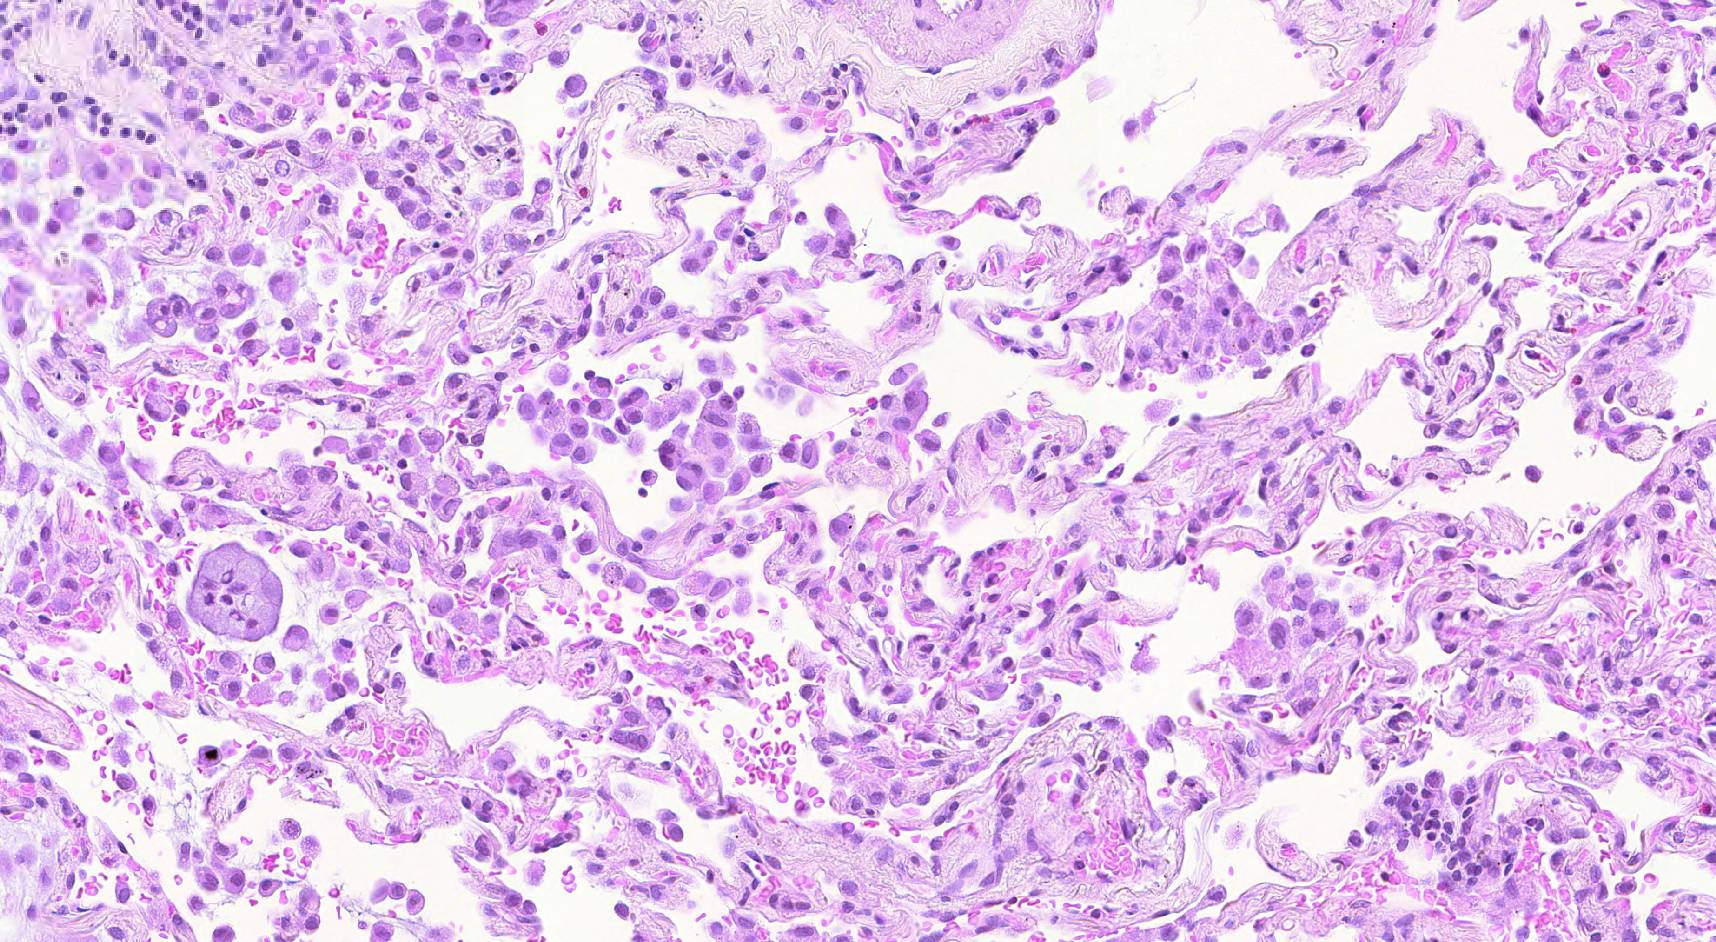stas: (185, 541, 284, 643)
